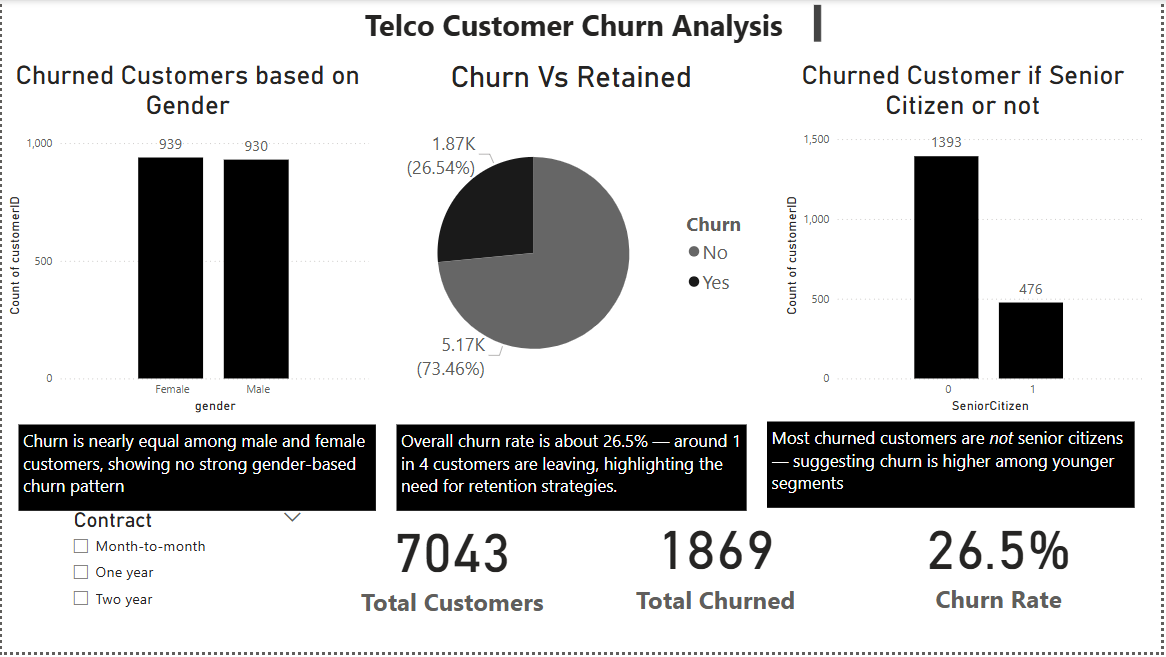

What the dashboard file says about the page in this screenshot:
{"tool":"powerbi","page":{"name":"Page 1","canvas":[1280,720],"ordinal":0},"visuals":[{"type":"card","fields":{"Values":["WA_Fn-UseC_-Telco-Customer-Churn.Churn Rate"]},"box":[950.1,513.9,298.8,205.1],"z":0},{"type":"card","fields":{"Values":["WA_Fn-UseC_-Telco-Customer-Churn.Total Churned"]},"box":[639.3,515.9,296.8,203.2],"z":1000},{"type":"card","fields":{"Values":["WA_Fn-UseC_-Telco-Customer-Churn.Total Customers"]},"box":[354.5,519.8,284.8,199.2],"z":2000},{"type":"pieChart","title":"Churn Vs Retained","fields":{"Category":["WA_Fn-UseC_-Telco-Customer-Churn.Churn"],"Y":["CountNonNull(WA_Fn-UseC_-Telco-Customer-Churn.customerID)"]},"box":[410.3,13.9,432.2,394.4],"z":3000},{"type":"columnChart","title":"Churned Customers based on Gender","fields":{"Category":["WA_Fn-UseC_-Telco-Customer-Churn.gender"],"Y":["CountNonNull(WA_Fn-UseC_-Telco-Customer-Churn.customerID)"]},"box":[0,13.9,410.3,394.4],"z":4000},{"type":"slicer","fields":{"Values":["WA_Fn-UseC_-Telco-Customer-Churn.Contract"]},"box":[65.7,555.7,276.9,125.5],"z":5000},{"type":"columnChart","title":"Churned Customer if Senior Citizen or not","fields":{"Category":["WA_Fn-UseC_-Telco-Customer-Churn.SeniorCitizen"],"Y":["CountNonNull(WA_Fn-UseC_-Telco-Customer-Churn.customerID)"]},"box":[842.5,13.9,406.3,394.4],"z":5001},{"type":"textbox","box":[8,424.2,394.4,95.6],"z":5003},{"type":"textbox","box":[434.2,424.2,386.4,95.6],"z":5004},{"type":"textbox","box":[842.5,424.2,406.3,95.6],"z":5005}]}

Visuals, with their boxes in screenshot pixels (x1, y1, x2, y2), scaled from the page's 1280x720 canvas onto the 1166x657 screenshot:
card - WA_Fn-UseC_-Telco-Customer-Churn.Churn Rate: rect(865, 469, 1138, 656)
card - WA_Fn-UseC_-Telco-Customer-Churn.Total Churned: rect(582, 471, 853, 656)
card - WA_Fn-UseC_-Telco-Customer-Churn.Total Customers: rect(323, 474, 582, 656)
"Churn Vs Retained" pieChart: rect(374, 13, 767, 373)
"Churned Customers based on Gender" columnChart: rect(0, 13, 374, 373)
slicer - WA_Fn-UseC_-Telco-Customer-Churn.Contract: rect(60, 507, 312, 622)
"Churned Customer if Senior Citizen or not" columnChart: rect(767, 13, 1138, 373)
textbox: rect(7, 387, 367, 474)
textbox: rect(396, 387, 748, 474)
textbox: rect(767, 387, 1138, 474)
